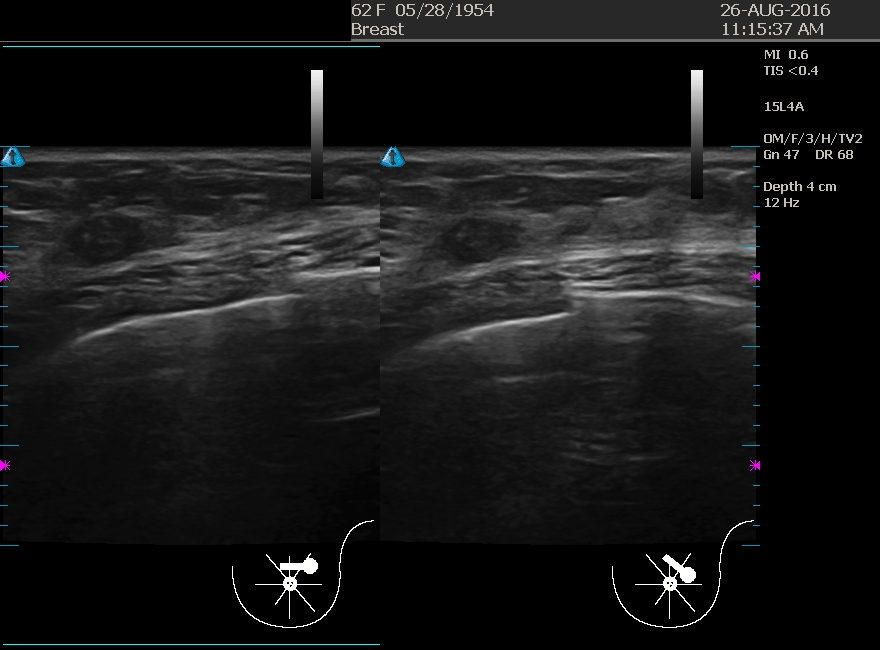Benign: (31, 160, 231, 360), (395, 175, 595, 375)
